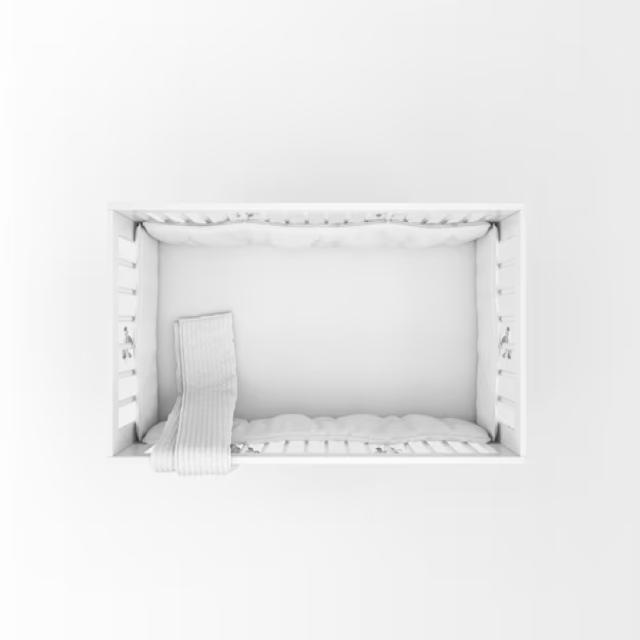crib: (110, 207, 524, 463)
